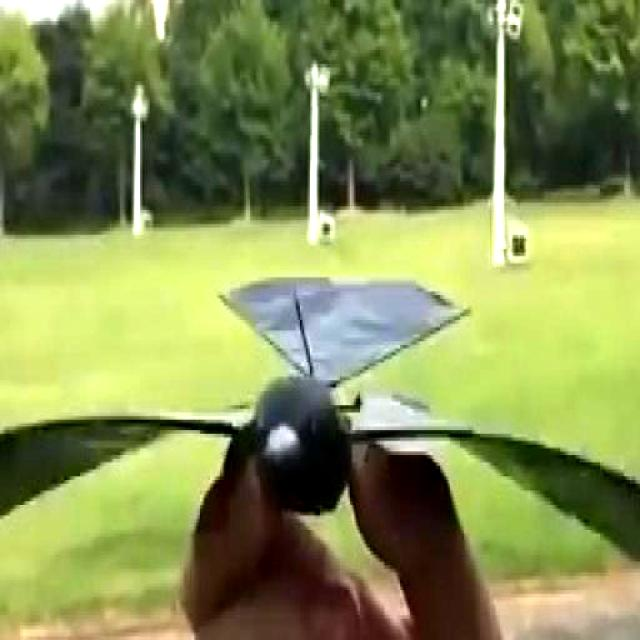airplane: (0, 279, 640, 640)
